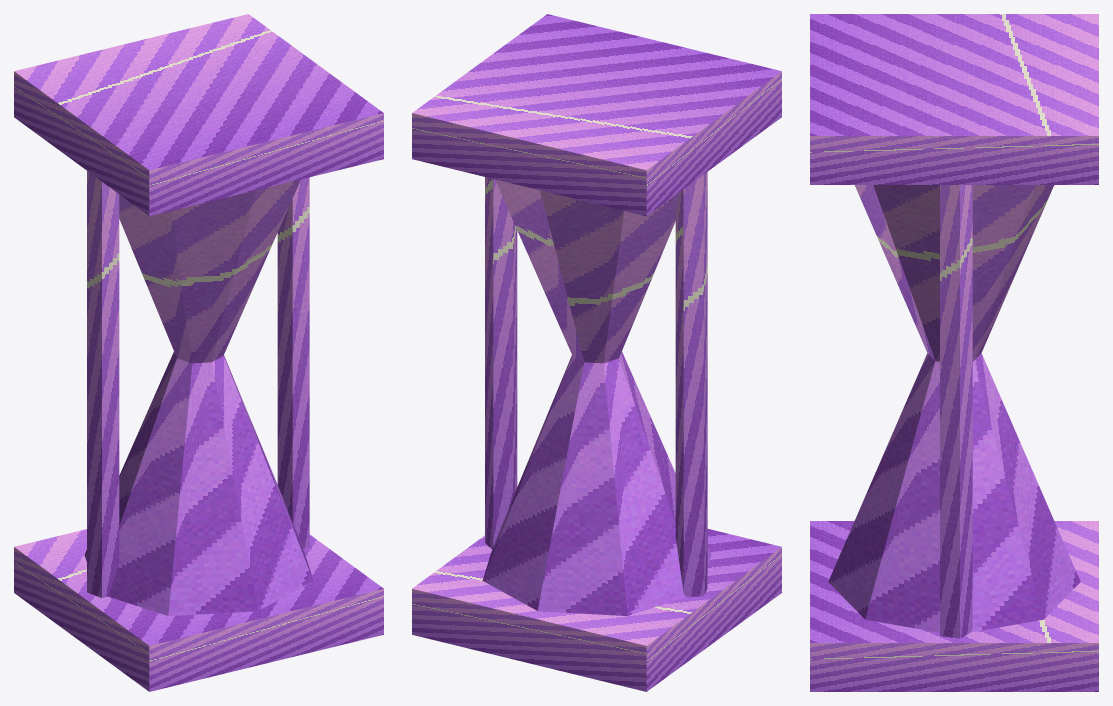
The model's file is reliquia_sagrada_15.glb.
The picture shows the model from 3 angles, left to right: view 1: azimuth 30°, elevation 25°; view 2: azimuth 150°, elevation 25°; view 3: azimuth 270°, elevation 25°; orthographic projection. The views are drawn at different scales.
Parts seen in each view (by area): view 1: reliquia_sagrada_15; view 2: reliquia_sagrada_15; view 3: reliquia_sagrada_15.
Boxes of the visible parts, x1,y1,x2,y2 form: reliquia_sagrada_15: (14,14,383,691); reliquia_sagrada_15: (412,14,781,691); reliquia_sagrada_15: (810,14,1098,691).
Size of the model in its own units: 0.32 by 0.68 by 0.32.
1 material, 1 textured.
